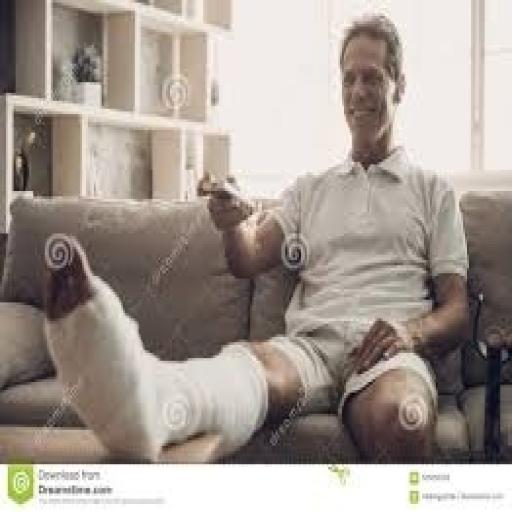sitting: (4, 10, 473, 462)
